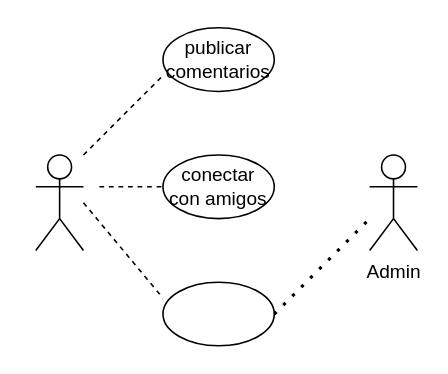
The diagram is 448 pixels wide and 374 high, and some of its shapes have lost their labels. The shapes that lost their labels are listed below. From the top down, each one's centre as x and y in pixels, then its label:
At point 58,201: "Usuario".
At point 217,313: "Eliminar comentarios".
